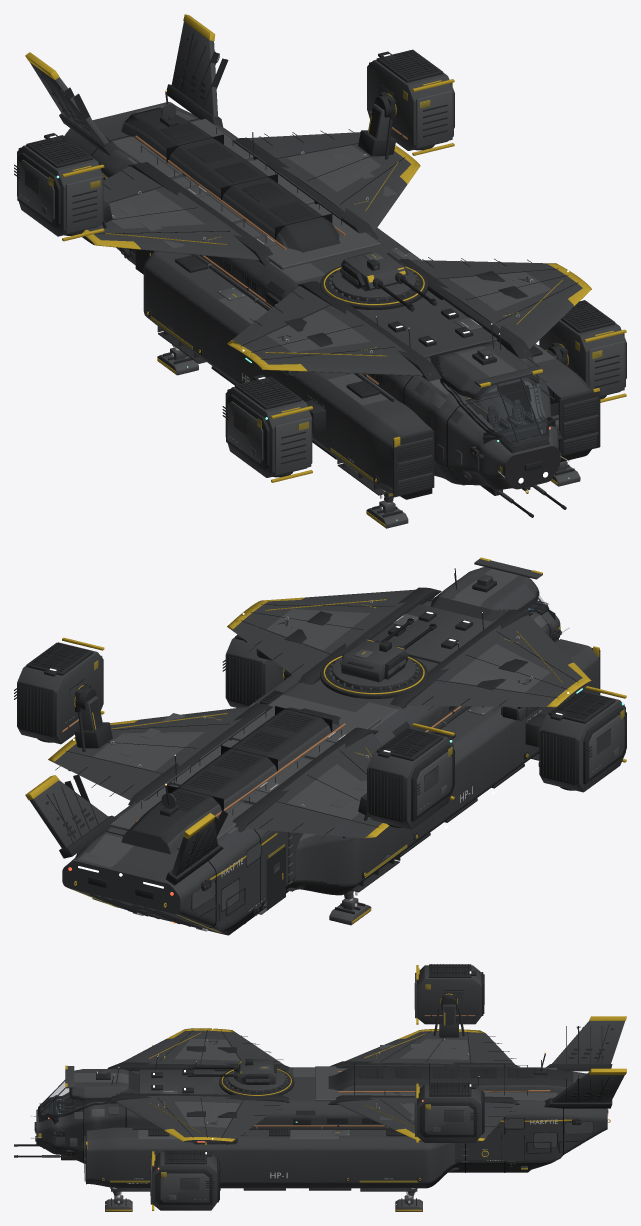
File: Harpyie.629f34dbb1.glb
3 renders of one model, top to bottom at view 1: azimuth 30°, elevation 25°; view 2: azimuth 150°, elevation 25°; view 3: azimuth 270°, elevation 25°, orthographic. The views are drawn at different scales.
Parts seen in each view (by area): view 1: Dachpanzer.004, Andockring.006, Dachpanzer.005, Bugstirn.001, Auslegerholm.004, Behaeltergitter.002, Kanzelglas.001, Gondelklappe.010, Duesenschaufel.112, Duesenschaufel.096, Andockkern.006, Fluegelfuge.240 (+18 smaller); view 2: Dachpanzer.004, Andockring.006, Dachpanzer.005, Auslegerholm.004, Bugstirn.001, Behaeltergitter.002, Andockkern.006, Gondelklappe.010, Auslassrahmen.006, Auslassrahmen.007, Fluegelfuge.240, Auslassrahmen.005 (+13 smaller); view 3: Dachpanzer.004, Andockring.006, Dachpanzer.005, Auslegerholm.004, Bugstirn.001, Gondelklappe.014, Behaeltergitter.002, Andockkern.006, Gondelklappe.008, Gondelklappe.010, Auslassrahmen.004, Auslassrahmen.005 (+11 smaller).
Boxes of the visible parts, x1,y1,x2,y2 form: Dachpanzer.004: (64, 102, 591, 489); Andockring.006: (40, 37, 600, 517); Dachpanzer.005: (108, 102, 555, 405); Bugstirn.001: (97, 107, 591, 499); Auslegerholm.004: (29, 22, 598, 503); Behaeltergitter.002: (58, 68, 596, 494); Kanzelglas.001: (374, 265, 562, 458); Gondelklappe.010: (367, 59, 453, 150); Duesenschaufel.112: (18, 159, 102, 233); Duesenschaufel.096: (227, 401, 311, 474); Andockkern.006: (60, 51, 576, 465); Fluegelfuge.240: (41, 33, 578, 485); Dachpanzer.004: (54, 567, 599, 931); Andockring.006: (46, 568, 600, 921); Dachpanzer.005: (72, 568, 550, 867); Auslegerholm.004: (29, 559, 558, 876); Bugstirn.001: (102, 594, 573, 935); Behaeltergitter.002: (63, 611, 527, 922); Andockkern.006: (64, 602, 547, 914); Gondelklappe.010: (17, 642, 103, 744); Auslassrahmen.006: (541, 692, 626, 790); Auslassrahmen.007: (369, 728, 454, 827); Fluegelfuge.240: (46, 600, 578, 927); Auslassrahmen.005: (18, 642, 92, 742); Dachpanzer.004: (36, 1028, 607, 1183); Andockring.006: (14, 994, 613, 1190); Dachpanzer.005: (74, 1039, 556, 1138); Auslegerholm.004: (42, 1004, 624, 1172); Bugstirn.001: (36, 1039, 573, 1188); Gondelklappe.014: (416, 965, 481, 1024); Behaeltergitter.002: (34, 1046, 608, 1180); Andockkern.006: (70, 1026, 592, 1162); Gondelklappe.008: (152, 1151, 217, 1210); Gondelklappe.010: (416, 1084, 481, 1142); Auslassrahmen.004: (155, 1150, 218, 1204); Auslassrahmen.005: (419, 1083, 483, 1137).
Bounding box in the file's own units: 19.69 × 10.18 × 37.57.
